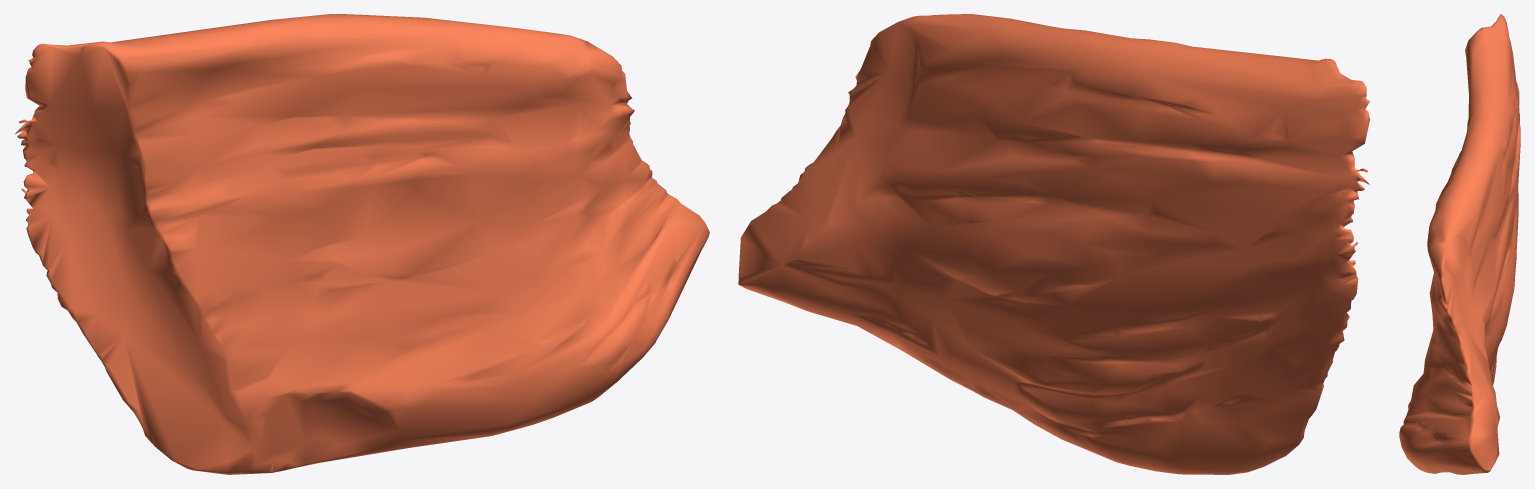
Rendered from Quadratus_femoris_muscle.r_Generated_Mesh_From_X3D.256.glb.
3 renders of one model, left to right at view 1: azimuth 30°, elevation 25°; view 2: azimuth 150°, elevation 25°; view 3: azimuth 270°, elevation 25°, orthographic. The views are drawn at different scales.
Visible parts, largest first — view 1: Quadratus_femoris_muscle.r_Generated_Mesh_From_X3D.256; view 2: Quadratus_femoris_muscle.r_Generated_Mesh_From_X3D.256; view 3: Quadratus_femoris_muscle.r_Generated_Mesh_From_X3D.256.
Boxes of the visible parts, box(x1,y1,x2,y2) form: Quadratus_femoris_muscle.r_Generated_Mesh_From_X3D.256: box(14, 14, 709, 474); Quadratus_femoris_muscle.r_Generated_Mesh_From_X3D.256: box(738, 14, 1370, 474); Quadratus_femoris_muscle.r_Generated_Mesh_From_X3D.256: box(1399, 14, 1520, 474).
Size of the model in its own units: 0.0687 by 0.0457 by 0.0161.
